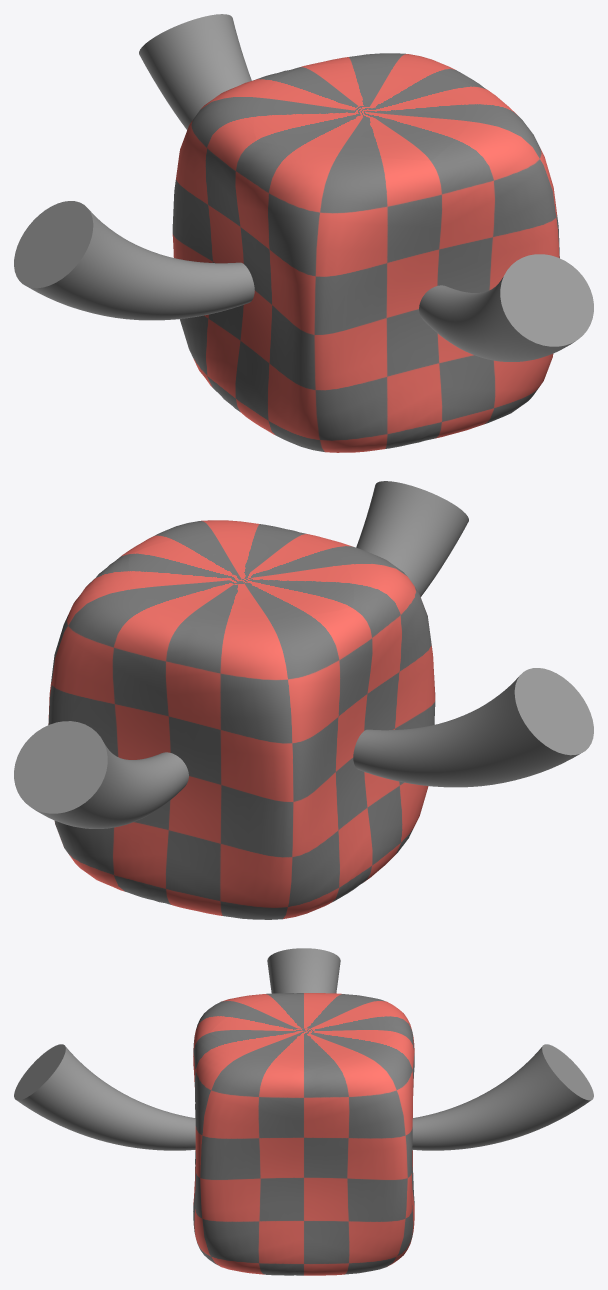
3 views of the same model, one above another, from view 1: azimuth 30°, elevation 25°; view 2: azimuth 150°, elevation 25°; view 3: azimuth 270°, elevation 25° (orthographic). The views are drawn at different scales.
Visible parts, largest first — view 1: Box001, Cone003, Cone001, Cone002; view 2: Box001, Cone003, Cone002, Cone001; view 3: Box001, Cone001, Cone002, Cone003.
Boxes of the visible parts, <box> form: Box001: <box>172,53,559,452</box>; Cone003: <box>14,201,254,320</box>; Cone001: <box>419,254,593,361</box>; Cone002: <box>139,14,251,129</box>; Box001: <box>48,520,435,919</box>; Cone003: <box>353,668,593,787</box>; Cone002: <box>14,721,188,828</box>; Cone001: <box>356,481,468,596</box>; Box001: <box>193,993,414,1275</box>; Cone001: <box>14,1044,195,1150</box>; Cone002: <box>412,1044,593,1150</box>; Cone003: <box>267,948,340,993</box>.
Size of the model in its own units: 54.61 by 31.5 by 79.02.
2 materials, 1 textured.
